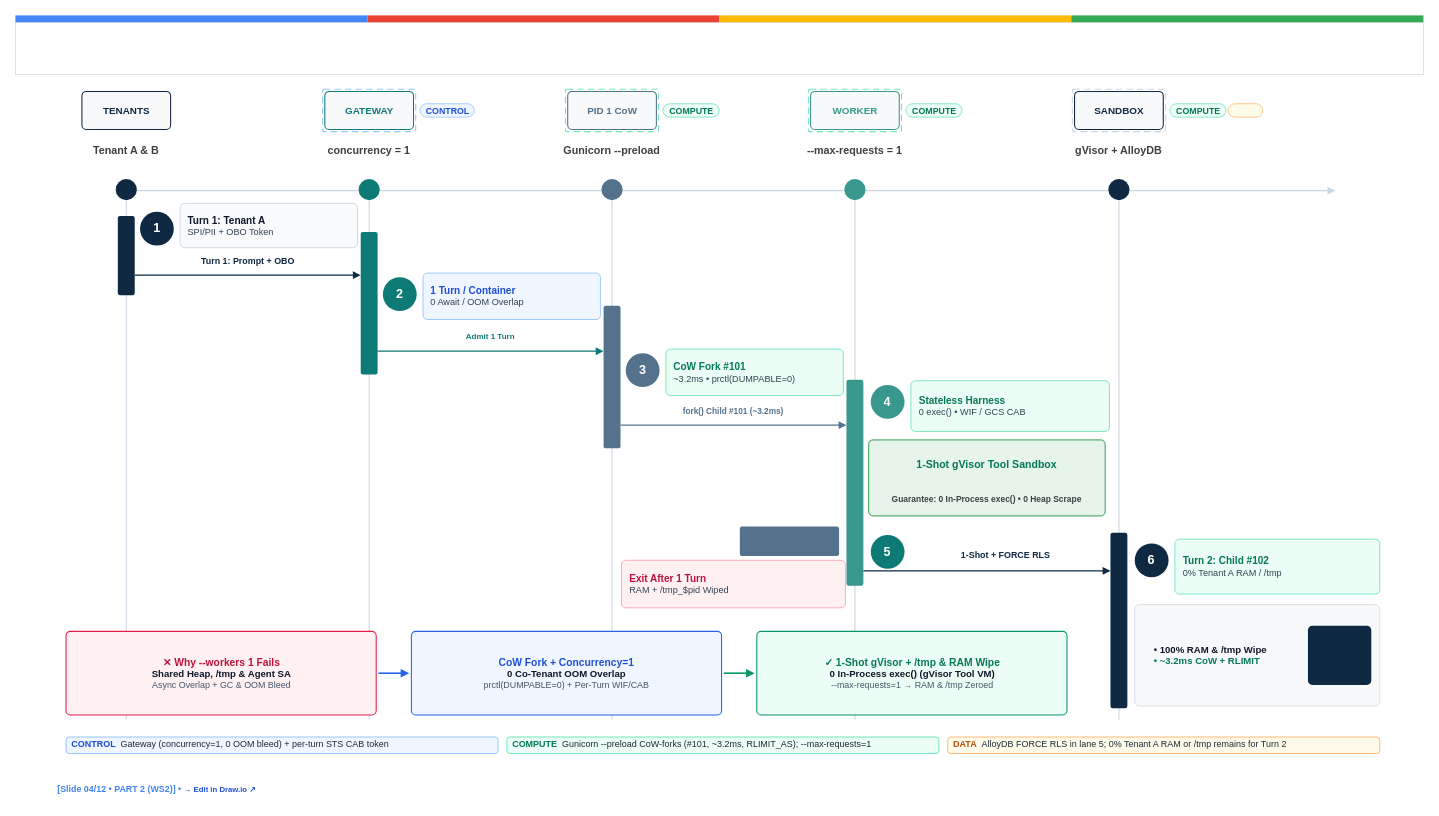
The diagram is 1439 pixels wide and 816 high, and some of its shapes have lost their labels. The shapes that lost their labels are listed below. From the top down, each one's centre as x and y in pixels, then its label:
At (719,48): "WS2 - PART 2 (Mode A) - Stateless Pool CoW Pre-Fork & 1-Shot gVisor".
At (1245,110): "DATA".
At (789,541): "sys.exit(0)".
At (1339,654): "0% BLEED".
